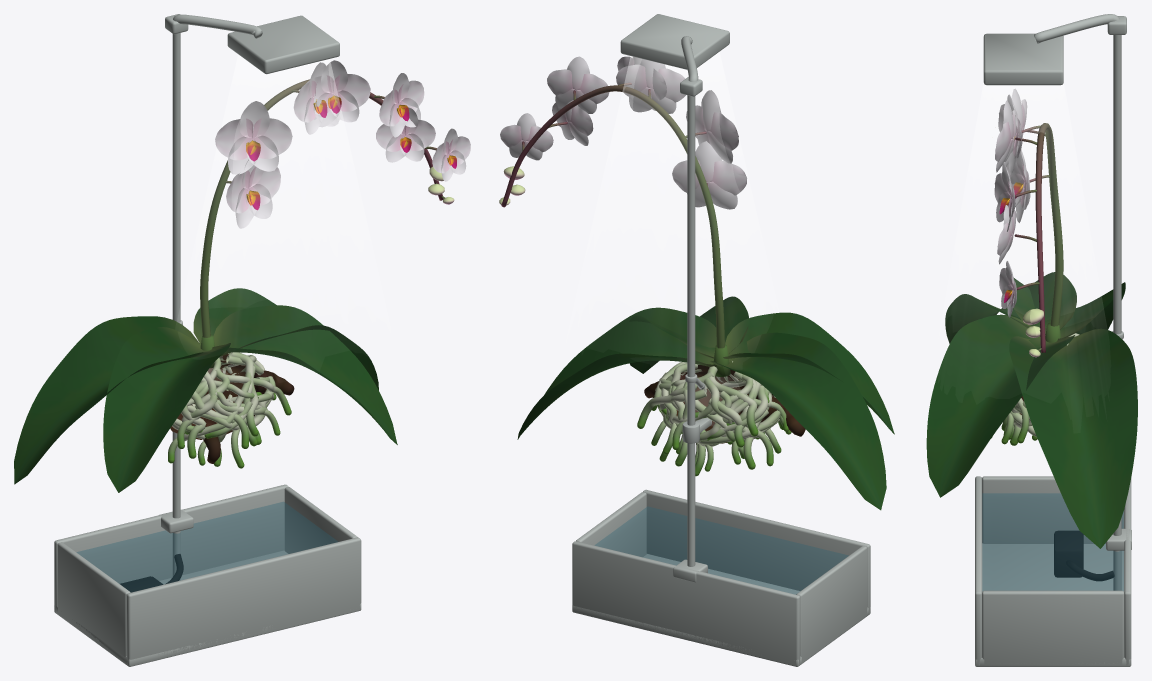
File: orchideen-system.glb
3 views of the same model, side by side, from view 1: azimuth 30°, elevation 25°; view 2: azimuth 150°, elevation 25°; view 3: azimuth 270°, elevation 25° (orthographic). The views are drawn at different scales.
Visible parts, largest first — view 1: Boden, Blaetter, Lichtkegel, Blueten, Wasser, Wurzeln, Wurzelholz, Schlauch; view 2: Boden, Blaetter, Lichtkegel, Blueten, Wasser, Wurzeln, Wurzelholz; view 3: Blaetter, Boden, Lichtkegel, Wasser, Blueten, Wurzelholz, Schlauch, Wurzeln.
Part boxes in pixels (x1,y1,x2,y2): Boden: (54, 14, 361, 666); Blaetter: (14, 288, 397, 492); Lichtkegel: (195, 54, 370, 373); Blueten: (215, 60, 470, 228); Wasser: (77, 502, 337, 592); Wurzeln: (168, 352, 291, 468); Wurzelholz: (170, 79, 445, 463); Schlauch: (166, 14, 262, 583); Boden: (572, 14, 870, 666); Blaetter: (517, 296, 894, 510); Lichtkegel: (585, 52, 761, 405); Blueten: (499, 56, 746, 209); Wasser: (595, 506, 848, 594); Wurzeln: (637, 361, 791, 476); Wurzelholz: (501, 82, 805, 443); Blaetter: (926, 272, 1137, 548); Boden: (975, 16, 1131, 666); Lichtkegel: (955, 83, 1094, 299); Wasser: (982, 493, 1123, 590); Blueten: (994, 88, 1043, 357); Wurzelholz: (1014, 123, 1063, 414); Schlauch: (1034, 14, 1119, 581); Wurzeln: (991, 333, 1079, 445).
Size of the model in its own units: 0.5833 by 0.7607 by 0.2477.
7 materials, 7 textured.
